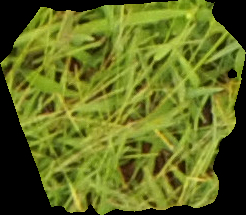grass: (1, 1, 245, 214)
